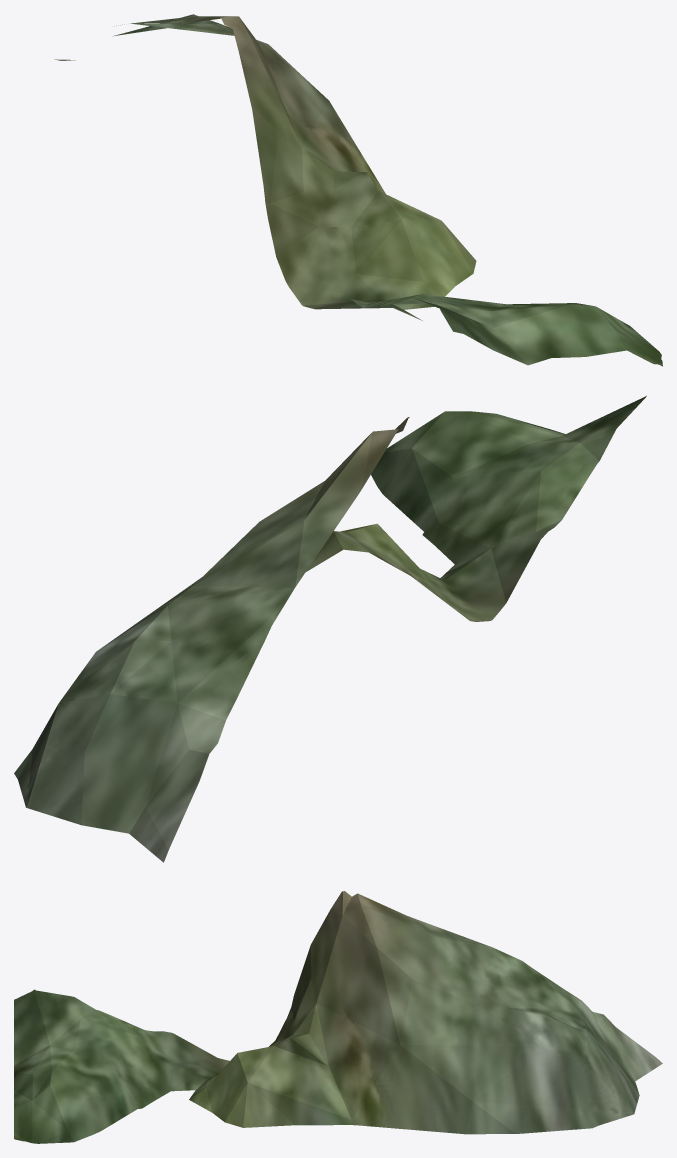
3 renders of one model, top to bottom at view 1: azimuth 30°, elevation 25°; view 2: azimuth 150°, elevation 25°; view 3: azimuth 270°, elevation 25°, orthographic. The views are drawn at different scales.
Bounding box in the file's own units: 0.8352 × 0.8369 × 2.85.
1 material, 1 textured.
